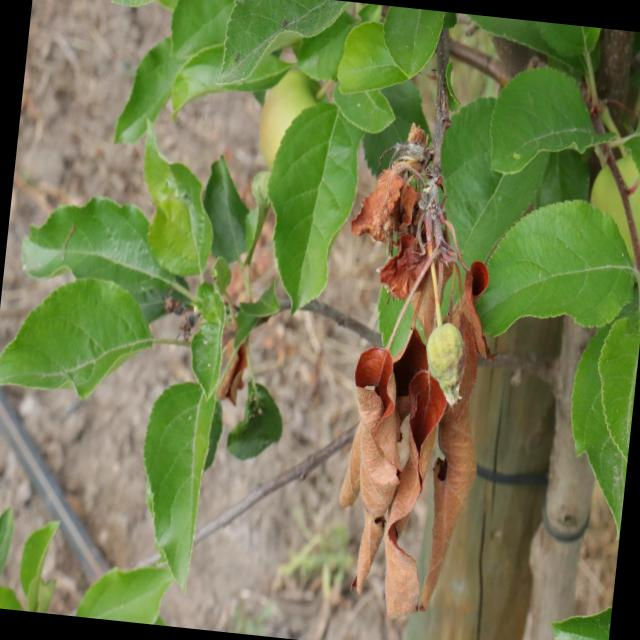-FireBlight-: (339, 123, 501, 627)
